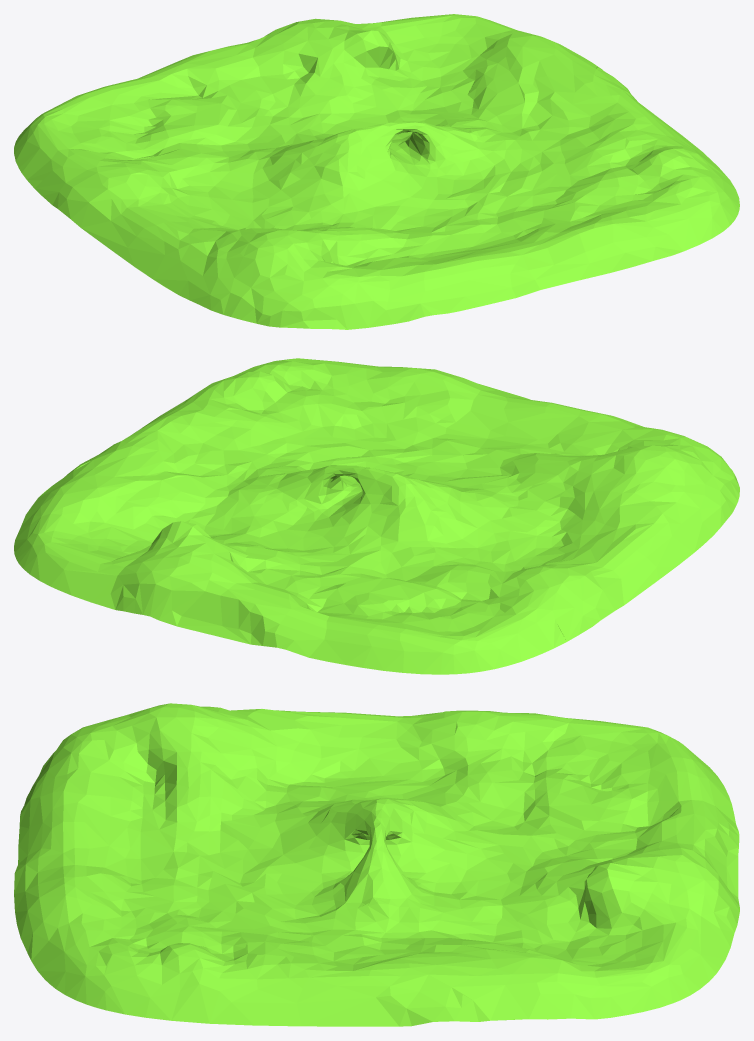
Rendered from terrain2.fbx.
The picture shows the model from 3 angles, top to bottom: view 1: azimuth 30°, elevation 25°; view 2: azimuth 150°, elevation 25°; view 3: azimuth 270°, elevation 25°; orthographic projection. The views are drawn at different scales.
Visible parts, largest first — view 1: terrain2; view 2: terrain2; view 3: terrain2.
Part boxes in pixels (x1,y1,x2,y2): terrain2: (14, 14, 739, 329); terrain2: (14, 358, 739, 674); terrain2: (14, 703, 739, 1026).
Size of the model in its own units: 69.54 by 6.43 by 69.81.
